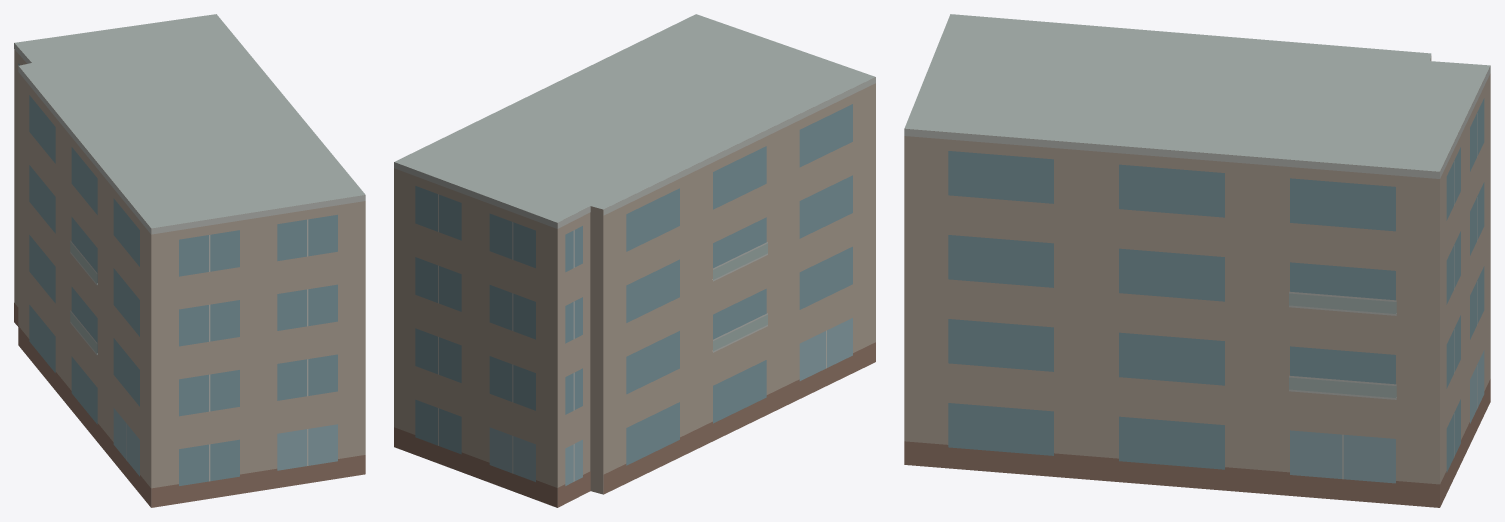
The model's file is survey-upis-32735895.glb.
The picture shows the model from 3 angles, left to right: view 1: azimuth 30°, elevation 25°; view 2: azimuth 150°, elevation 25°; view 3: azimuth 270°, elevation 25°; orthographic projection. The views are drawn at different scales.
Parts seen in each view (by area): view 1: survey-upis-32735895.tmp; view 2: survey-upis-32735895.tmp; view 3: survey-upis-32735895.tmp.
Boxes of the visible parts, left/top/right/bottom form: survey-upis-32735895.tmp: left=14, top=14, right=365, bottom=507; survey-upis-32735895.tmp: left=394, top=14, right=875, bottom=507; survey-upis-32735895.tmp: left=904, top=14, right=1490, bottom=507.
Size of the model in its own units: 11.28 by 11.2 by 17.72.
